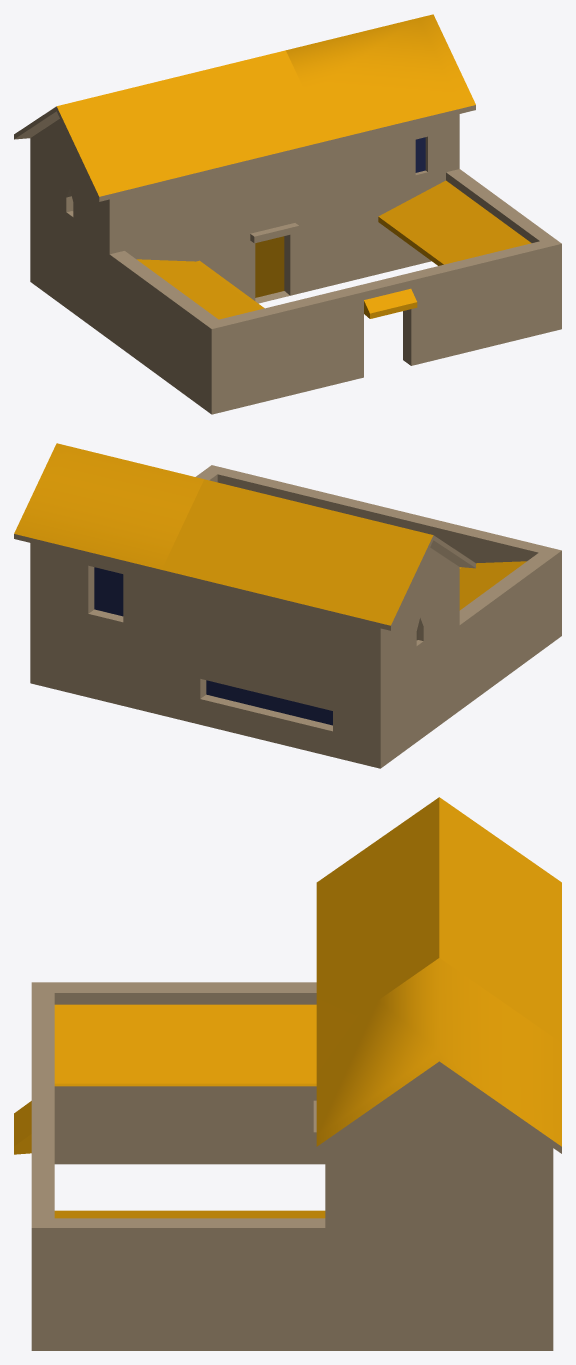
File: House2.fbx
The picture shows the model from 3 angles, top to bottom: view 1: azimuth 30°, elevation 25°; view 2: azimuth 150°, elevation 25°; view 3: azimuth 270°, elevation 25°; orthographic projection. The views are drawn at different scales.
Parts seen in each view (by area): view 1: pCube10; view 2: pCube10; view 3: pCube10.
Boxes of the visible parts, left/top/right/bottom form: pCube10: left=14, top=14, right=561, bottom=414; pCube10: left=14, top=443, right=561, bottom=768; pCube10: left=14, top=797, right=561, bottom=1350.
Size of the model in its own units: 2.75 by 1.45 by 2.4.
